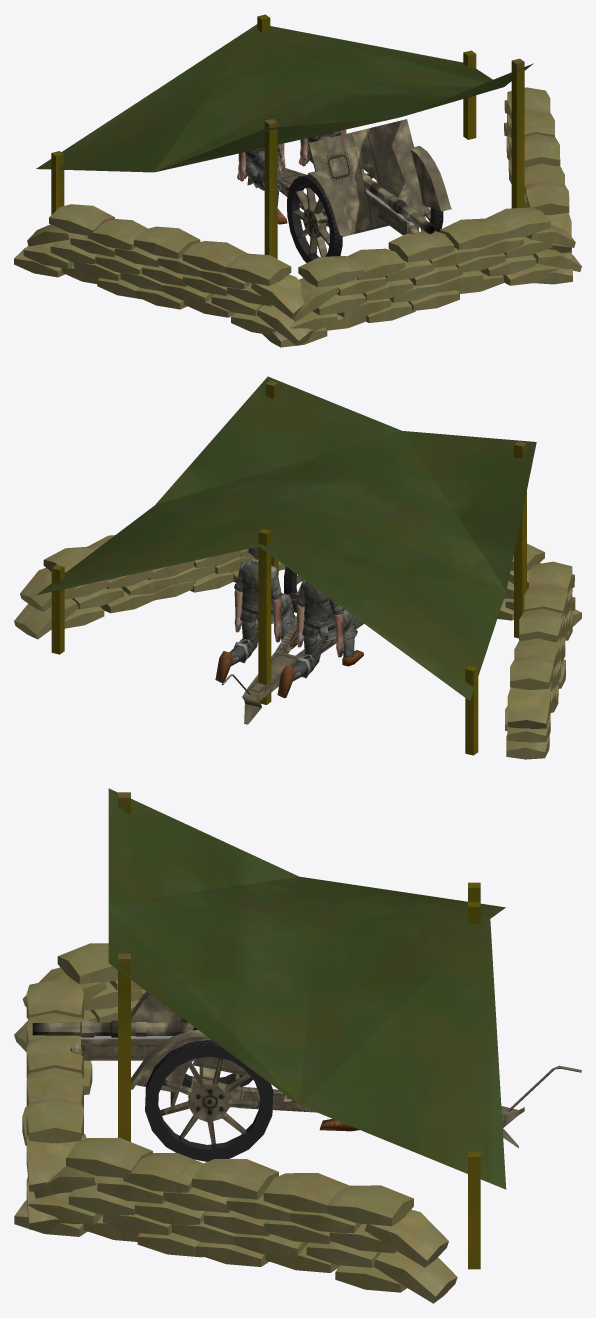
The model's file is ITAObice100_Stationary.dae.
3 renders of one model, top to bottom at view 1: azimuth 30°, elevation 25°; view 2: azimuth 150°, elevation 25°; view 3: azimuth 270°, elevation 25°, orthographic. The views are drawn at different scales.
Parts seen in each view (by area): view 1: base, shield, wheels, barrel, sleeve; view 2: base, shield, torso1, torso1.001; view 3: base, wheels, shield, barrel, sleeve.
Part boxes in pixels (x1,y1,x2,y2): base: (14, 14, 581, 347); shield: (247, 119, 451, 236); wheels: (287, 175, 443, 262); barrel: (361, 168, 435, 233); sleeve: (366, 189, 418, 235); base: (14, 376, 581, 759); shield: (221, 592, 363, 724); torso1: (302, 581, 335, 640); torso1.001: (240, 557, 273, 624); base: (14, 788, 506, 1303); wheels: (145, 1039, 273, 1161); shield: (131, 991, 581, 1148); barrel: (32, 1020, 194, 1037); sleeve: (70, 1036, 210, 1060).
Size of the model in its own units: 51.33 by 35.71 by 18.75.
